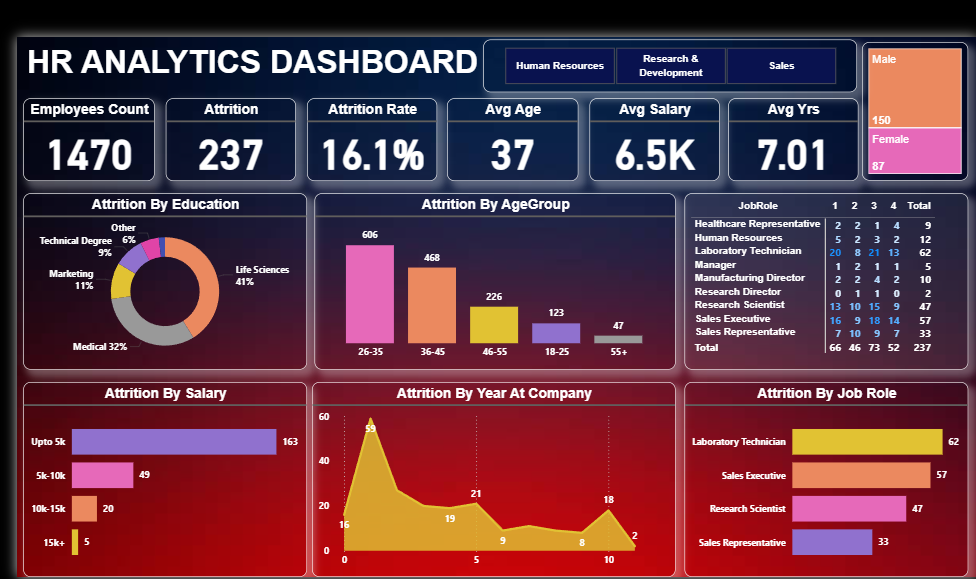

The page's visual inventory and layout, read from the dashboard file:
{"tool":"powerbi","page":{"name":"Page 1","canvas":[1280,720],"ordinal":0},"visuals":[{"type":"card","title":"Employees Count","fields":{"Values":["CountNonNull(HR_Analytics.EmpID)"]},"box":[8.3,81.5,175,110],"z":0},{"type":"card","title":"Attrition ","fields":{"Values":["Sum(HR_Analytics.AttritionCount)"]},"box":[198.3,81.5,173.3,110],"z":1000},{"type":"card","title":"Attrition Rate","fields":{"Values":["HR_Analytics.AttritionRate"]},"box":[386.7,81.5,173.3,110],"z":2000},{"type":"card","title":"Avg Age","fields":{"Values":["Avg(HR_Analytics.Age)"]},"box":[573.3,81.5,175,110],"z":3000},{"type":"card","title":"Avg Salary","fields":{"Values":["Avg(HR_Analytics.MonthlyIncome)"]},"box":[763.3,81.5,173.3,110],"z":4000},{"type":"card","title":"Avg Yrs","fields":{"Values":["Avg(HR_Analytics.YearsAtCompany)"]},"box":[948.3,81.5,173.3,110],"z":5000},{"type":"donutChart","title":"Attrition By Education","fields":{"Y":["CountNonNull(HR_Analytics.AttritionCount)"],"Category":["HR_Analytics.EducationField"],"Series":["HR_Analytics.EducationField"]},"box":[8.3,208.1,378.3,235],"z":6000},{"type":"columnChart","title":"Attrition By AgeGroup","fields":{"Category":["HR_Analytics.AgeGroup"],"Y":["CountNonNull(HR_Analytics.AttritionCount)"]},"box":[396.7,208.1,481.7,235],"z":7000},{"type":"pivotTable","title":"Attr","fields":{"Rows":["HR_Analytics.JobRole"],"Columns":["HR_Analytics.JobSatisfaction"],"Values":["Sum(HR_Analytics.AttritionCount)"]},"box":[890,201.7,378.3,235],"z":8000},{"type":"clusteredBarChart","title":"Attrition By Salary","fields":{"Category":["HR_Analytics.SalarySlab"],"Y":["Sum(HR_Analytics.AttritionCount)"]},"box":[8.3,459.8,378.3,260],"z":9000},{"type":"clusteredBarChart","title":"Attrition By Job Role","fields":{"Y":["Sum(HR_Analytics.AttritionCount)"],"Category":["HR_Analytics.JobRole"]},"box":[890,459.8,378.3,260],"z":10000},{"type":"areaChart","title":"Attrition By Year At Company","fields":{"Y":["Sum(HR_Analytics.AttritionCount)"],"Category":["HR_Analytics.YearsAtCompany"]},"box":[393.3,459.8,485,260],"z":11000},{"type":"treemap","title":"Attrition By AgeGroup","fields":{"Values":["Sum(HR_Analytics.AttritionCount)"],"Group":["HR_Analytics.Gender"]},"box":[1126.7,6.5,141.7,185],"z":12000},{"type":"slicer","title":"Department","fields":{"Values":["HR_Analytics.Department"]},"box":[621.7,3.3,498.3,70],"z":13000},{"type":"textbox","box":[8.3,3.3,613.3,70],"z":14000}]}

Visuals, with their boxes in screenshot pixels (x1, y1, x2, y2):
"Employees Count" card: bbox=[19, 110, 151, 192]
"Attrition " card: bbox=[162, 110, 292, 192]
"Attrition Rate" card: bbox=[303, 110, 434, 192]
"Avg Age" card: bbox=[444, 110, 575, 192]
"Avg Salary" card: bbox=[587, 110, 717, 192]
"Avg Yrs" card: bbox=[726, 110, 856, 192]
"Attrition By Education" donutChart: bbox=[19, 205, 303, 381]
"Attrition By AgeGroup" columnChart: bbox=[311, 205, 673, 381]
"Attr" pivotTable: bbox=[682, 200, 966, 377]
"Attrition By Salary" clusteredBarChart: bbox=[19, 394, 303, 578]
"Attrition By Job Role" clusteredBarChart: bbox=[682, 394, 966, 578]
"Attrition By Year At Company" areaChart: bbox=[308, 394, 673, 578]
"Attrition By AgeGroup" treemap: bbox=[860, 53, 966, 192]
"Department" slicer: bbox=[480, 51, 855, 103]
textbox: bbox=[19, 51, 480, 103]
